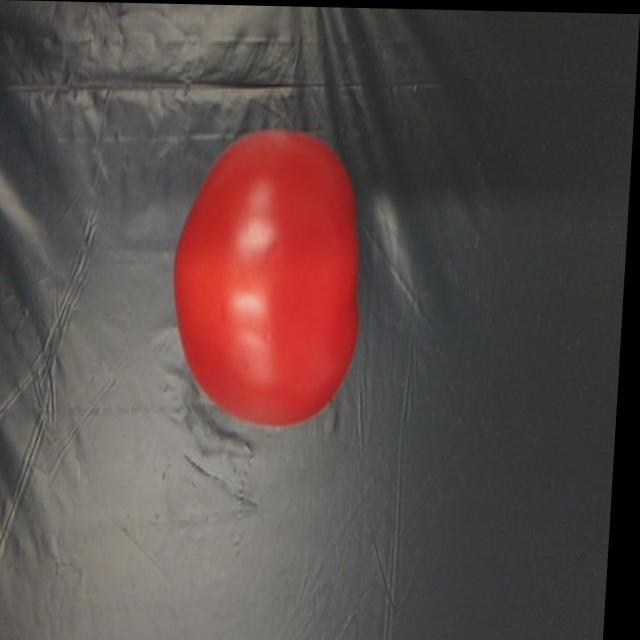kirmizi: (162, 127, 371, 430)
